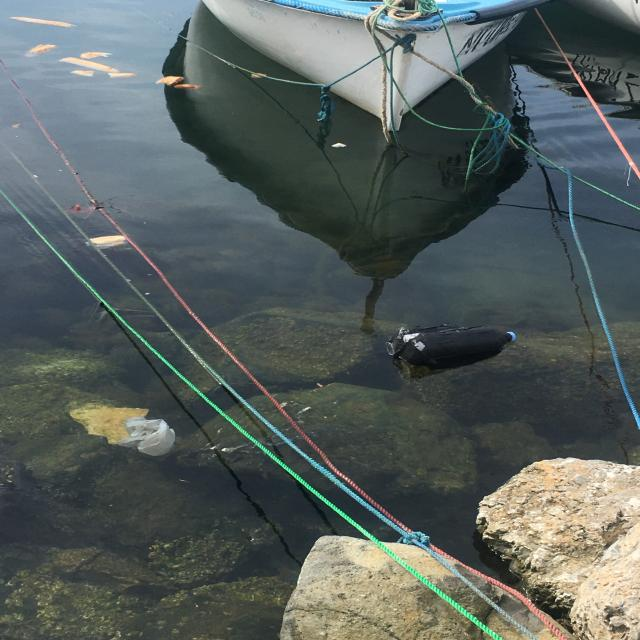Plastic bag: (69, 400, 151, 448), (115, 414, 180, 458)
Plastic bottle: (376, 322, 522, 368)
